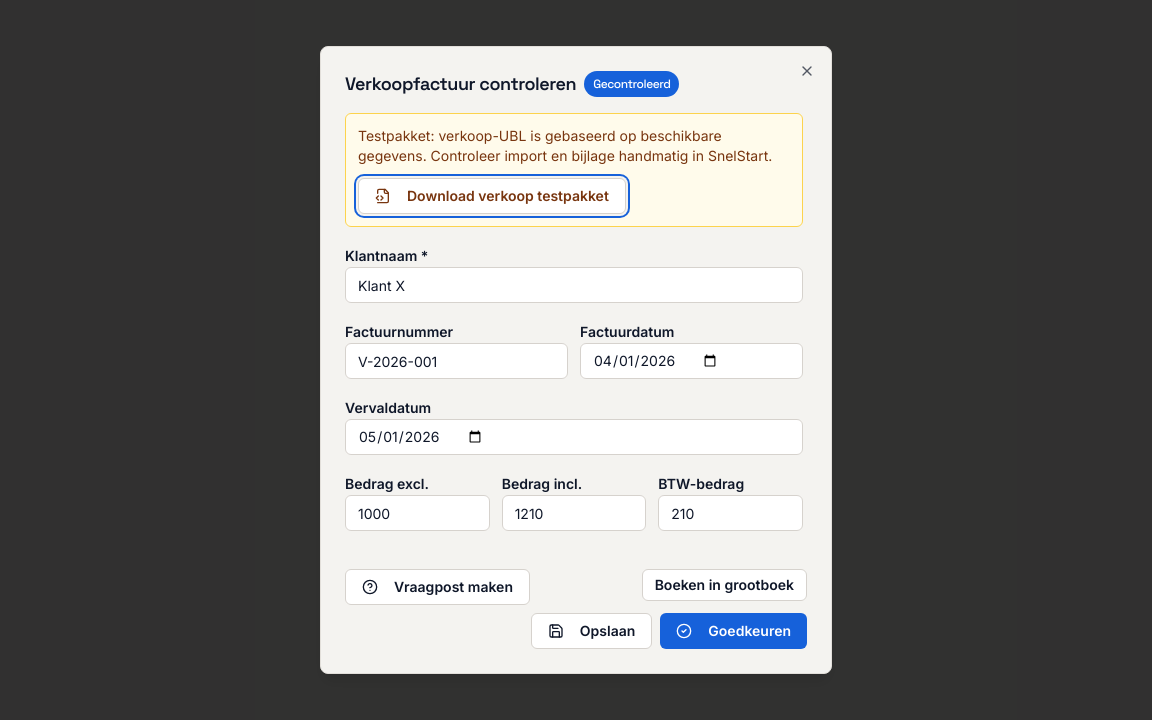
it: Verkoopfactuur — dirty-check vóór boeken (P1-fix) › dirty amount_excl: boeken-knop is disabled en de Nederlandse hint verschijnt
The width and height of the screenshot is (1152, 720).
Expected: the button with test id "sales-posting-button" is enabled, [642,569,807,601]
Replace the text in the number field showing "1000" below "Bedrag excl." with "1234" at x=417, y=513, box [345,495,490,531]
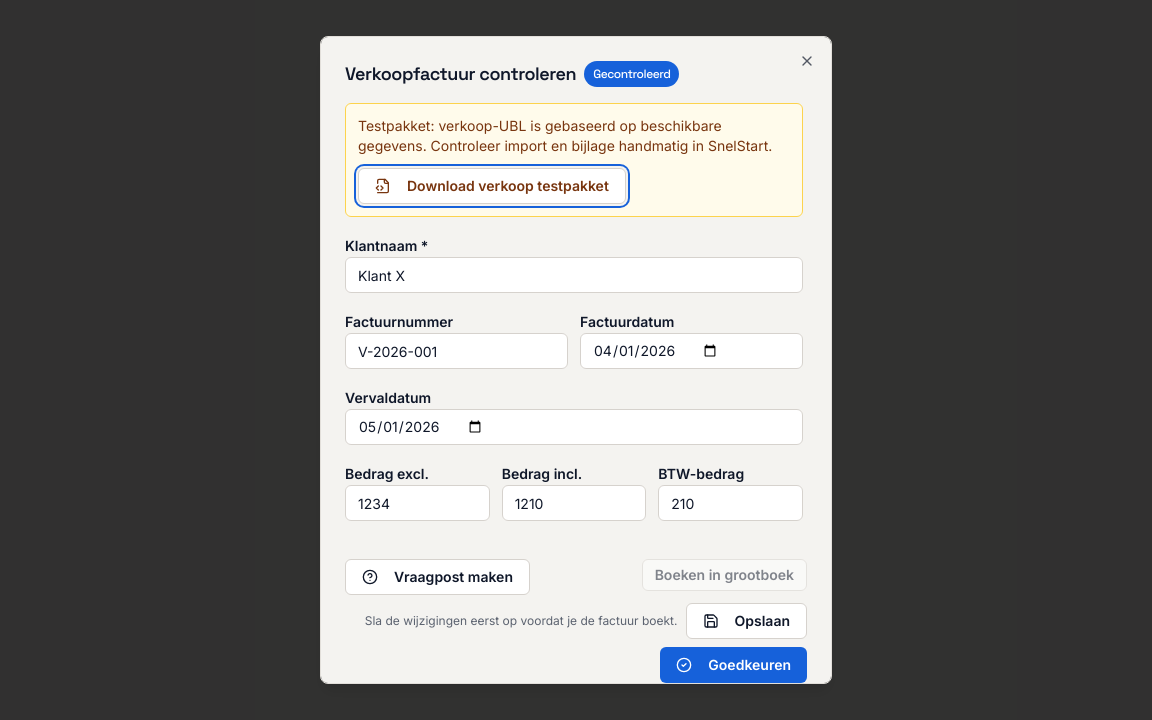
Result: the button with test id "sales-posting-button" is disabled at [642,559,807,591]
Result: the text with test id "sales-posting-dirty-hint" reads "Sla de wijzigingen eerst op voordat je de factuur boekt." at [365,613,678,628]
